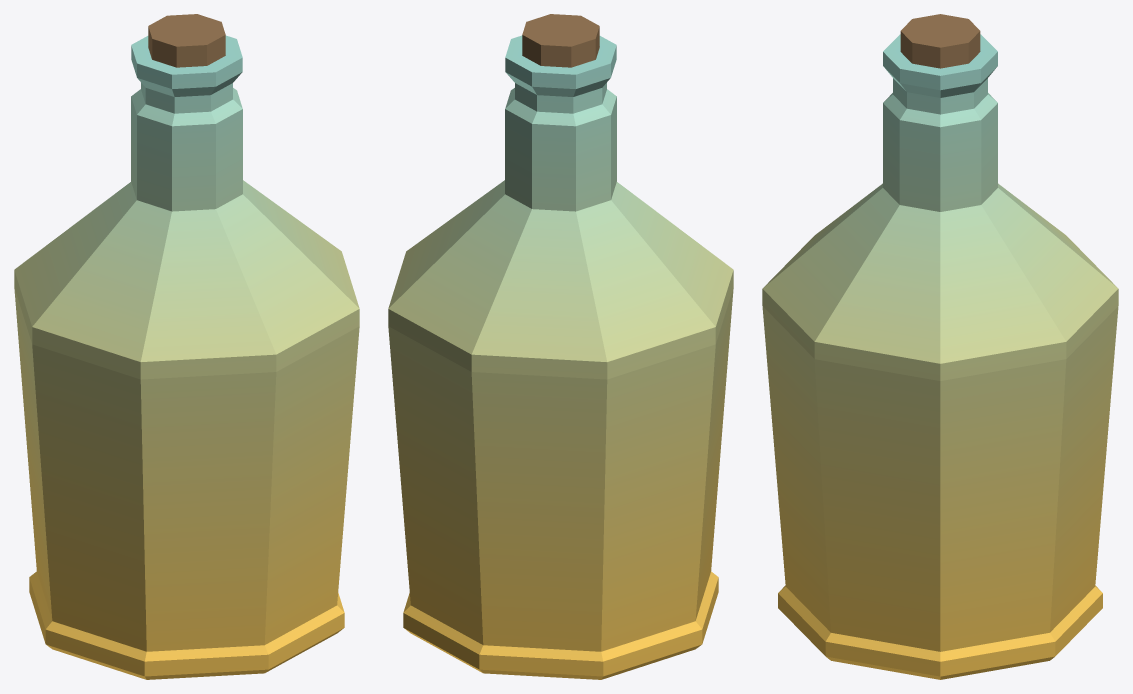
File: FlaskOctagonal.fbx
3 renders of one model, left to right at view 1: azimuth 30°, elevation 25°; view 2: azimuth 150°, elevation 25°; view 3: azimuth 270°, elevation 25°, orthographic.
Parts seen in each view (by area): view 1: FlaskOctagonal; view 2: FlaskOctagonal; view 3: FlaskOctagonal.
Boxes of the visible parts, x1,y1,x2,y2 form: FlaskOctagonal: [14, 14, 359, 679]; FlaskOctagonal: [388, 14, 733, 679]; FlaskOctagonal: [762, 14, 1118, 679].
Bounding box in the file's own units: 11.5 × 20.8 × 11.5.
